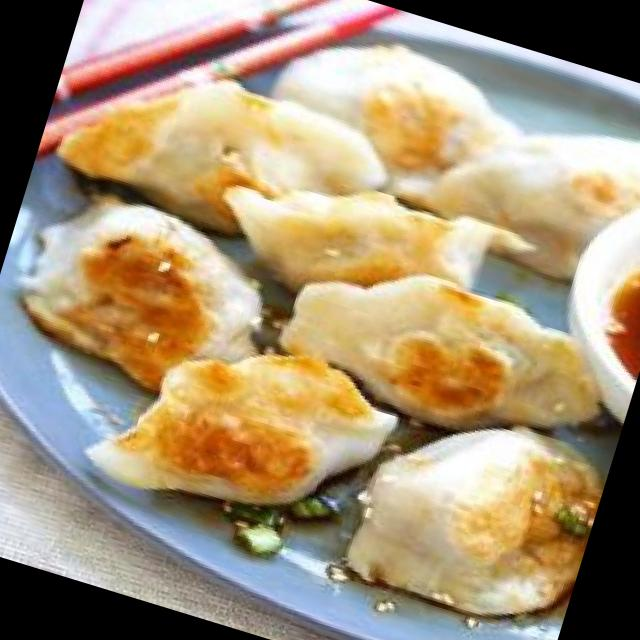fried_dumplings: (0, 0, 640, 629)
